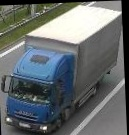truck: (0, 3, 127, 135)
